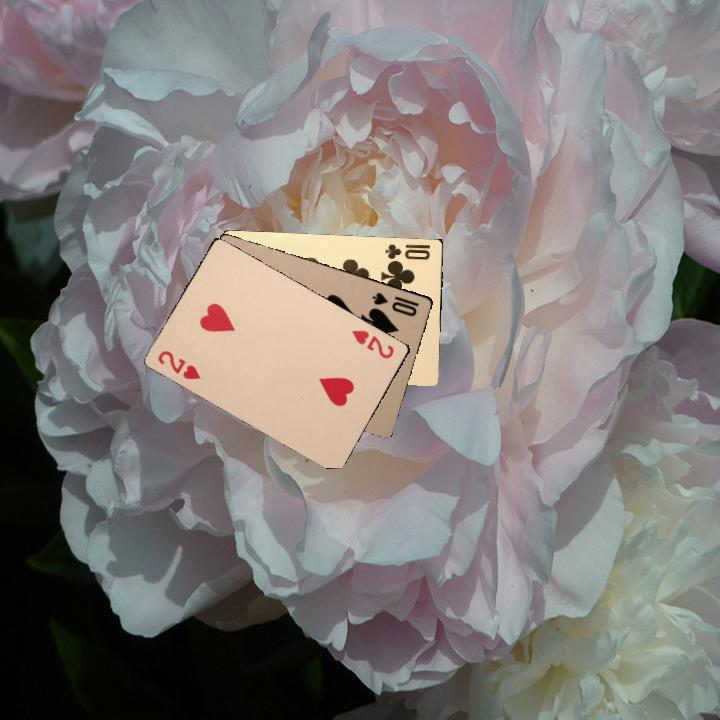10c: (381, 240, 433, 266)
10s: (368, 288, 422, 319)
2h: (153, 346, 203, 382), (348, 326, 397, 361)
